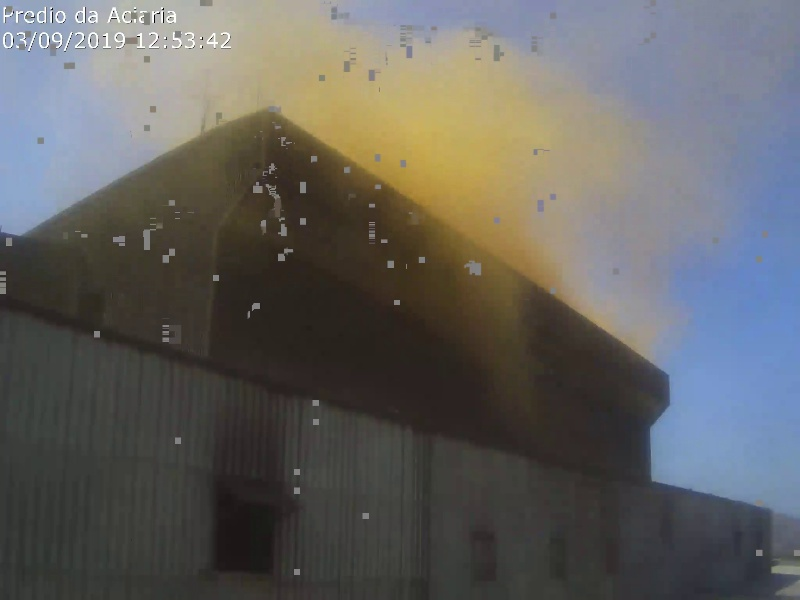Galpao: (1, 233, 670, 600)
Janela: (213, 473, 288, 583)
Pessimo: (327, 90, 446, 138), (352, 123, 468, 162), (295, 89, 395, 119), (421, 176, 492, 204), (395, 154, 458, 185), (411, 105, 470, 137), (443, 185, 498, 214), (464, 209, 530, 232), (525, 242, 561, 282), (498, 219, 534, 258), (468, 133, 504, 172), (412, 130, 448, 169)
